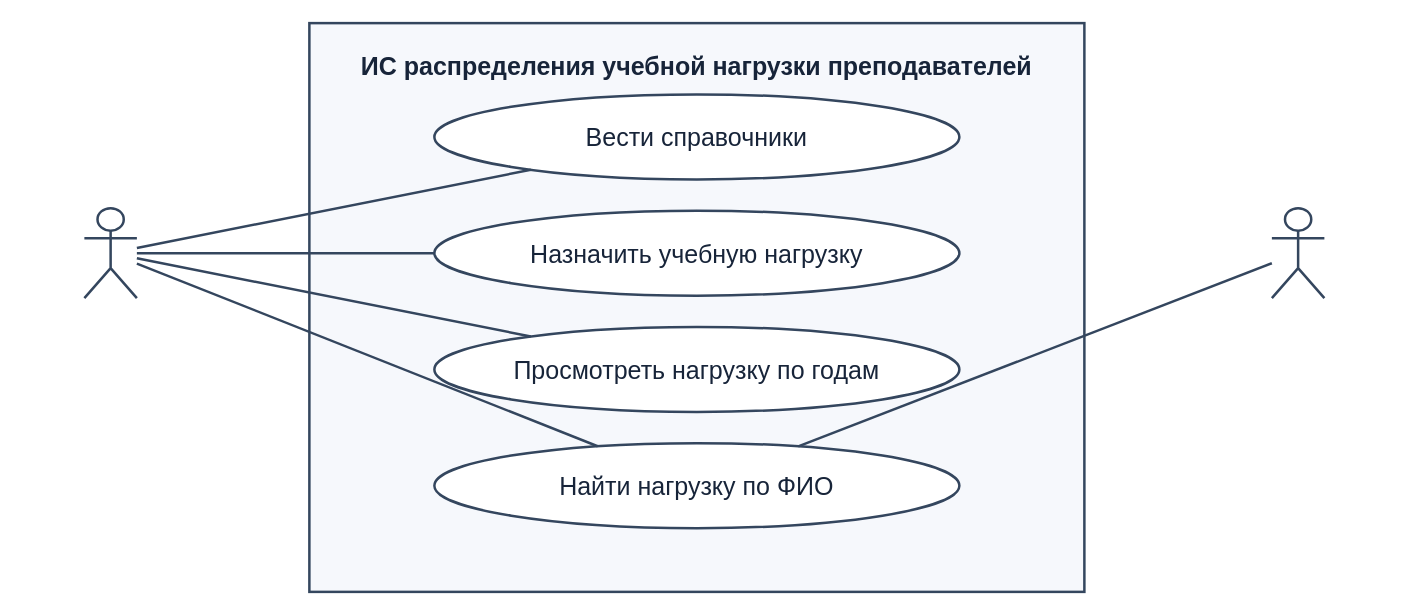
Image size: 1410x614. Some labels were removed from this diagram. The centre of each missing label's shape, as x and y in pixels:
Ответственный за нагрузку: point 110,252
Преподаватель: point 1297,252
